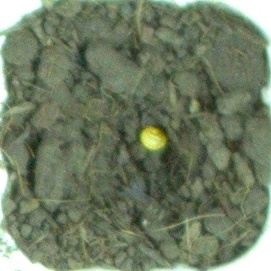pepper seed: (53, 48, 224, 201)
